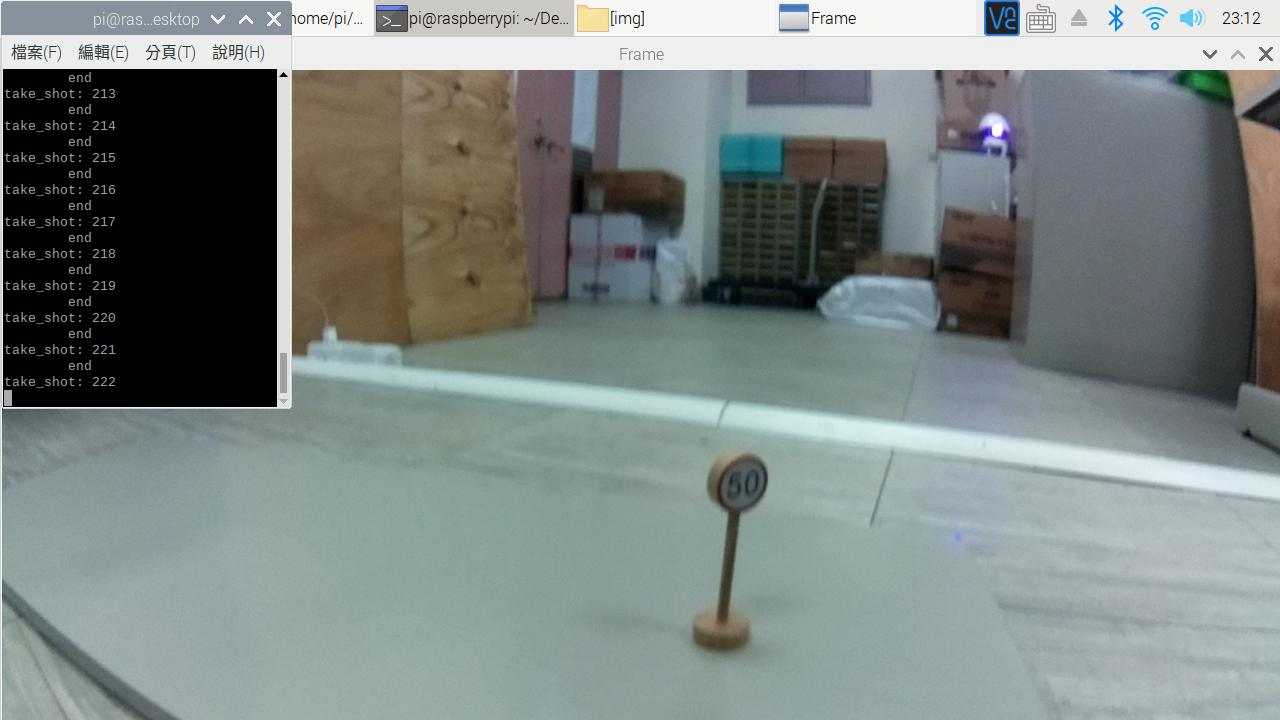Speed50: (686, 433, 789, 535)
